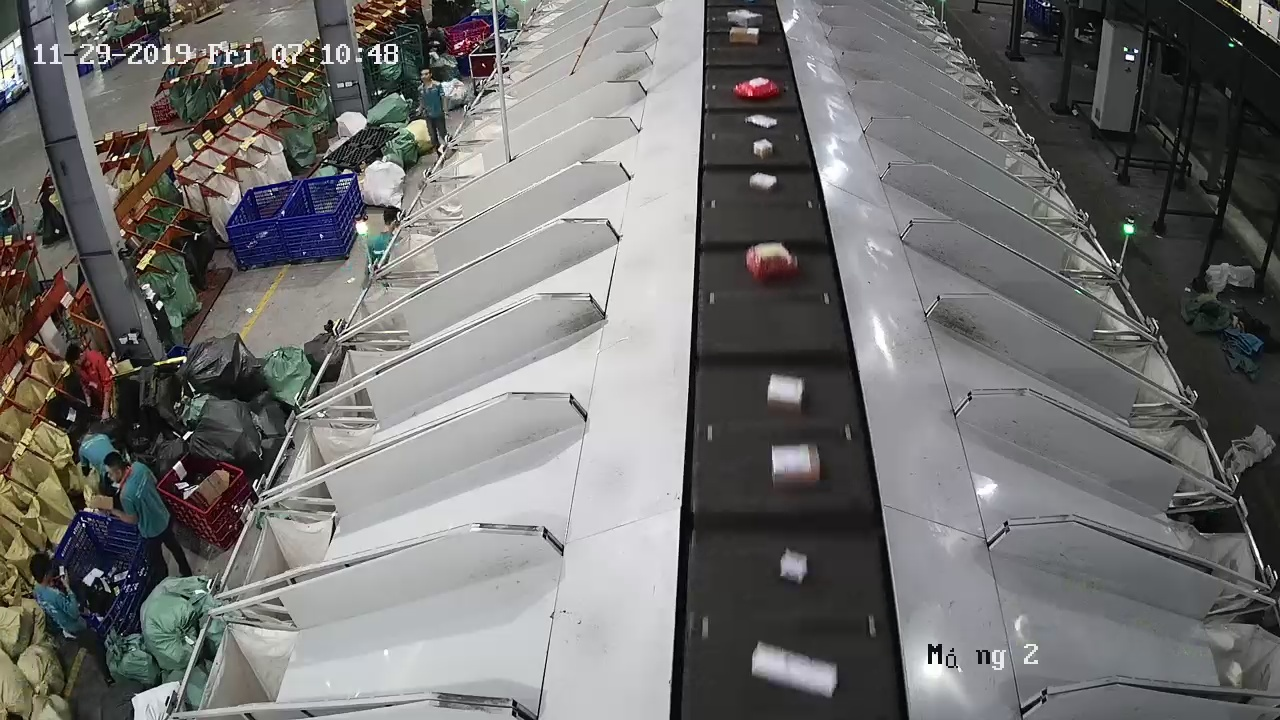parcel: (751, 641, 838, 700), (770, 442, 821, 492), (744, 240, 799, 284), (767, 373, 807, 414), (779, 550, 808, 585), (749, 171, 778, 193), (745, 113, 778, 129), (753, 138, 773, 159)
